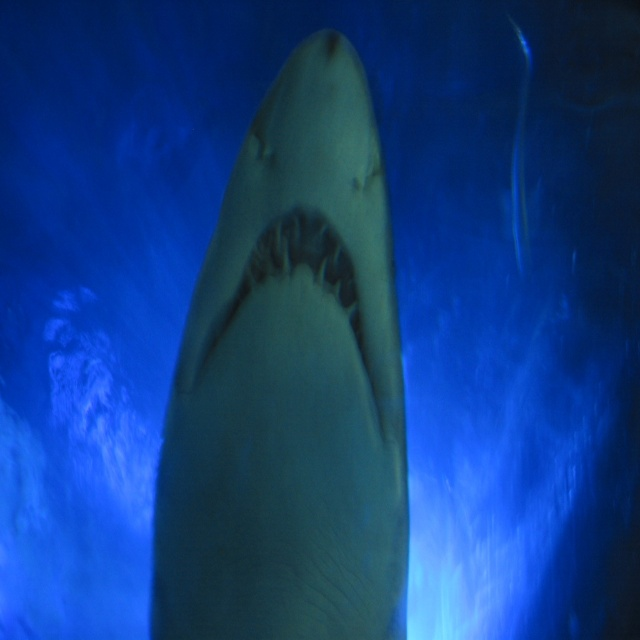Shark: (151, 26, 407, 639)
